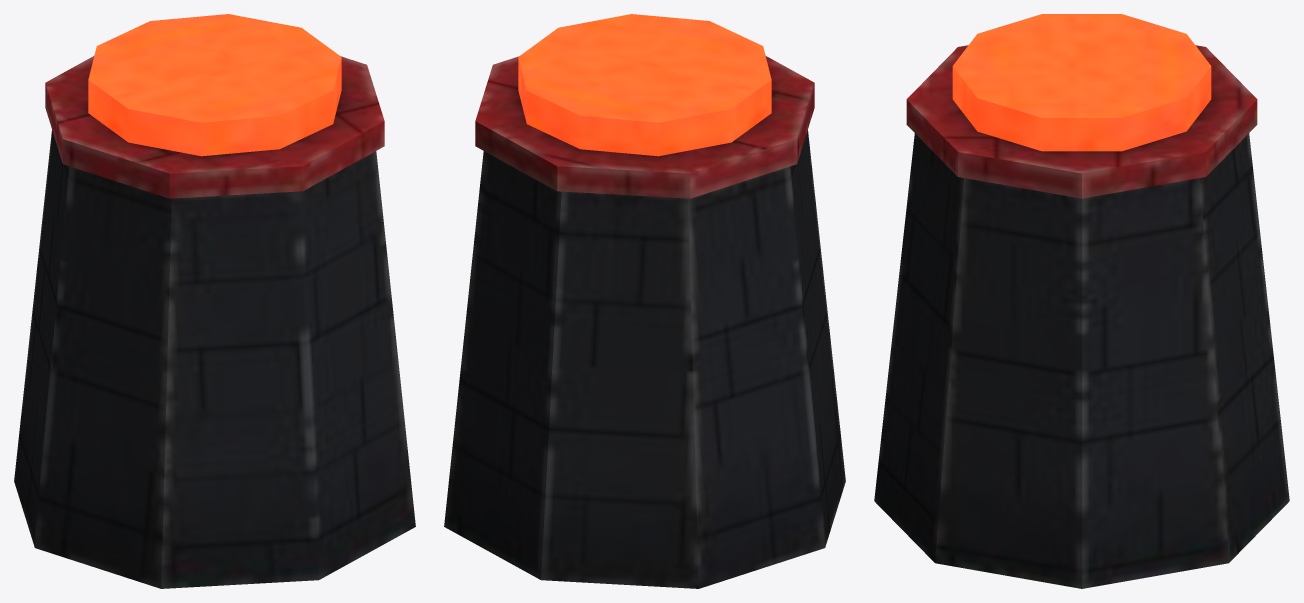
Rendered from btn_e.glb.
3 renders of one model, left to right at view 1: azimuth 30°, elevation 25°; view 2: azimuth 150°, elevation 25°; view 3: azimuth 270°, elevation 25°, orthographic.
Visible parts, largest first — view 1: btn_e; view 2: btn_e; view 3: btn_e.
Boxes of the visible parts, box(x1,y1,x2,y2) form: btn_e: box(14, 14, 415, 588); btn_e: box(444, 14, 845, 588); btn_e: box(874, 14, 1289, 588).
Size of the model in its own units: 0.9 by 1.04 by 0.9.
1 material, 1 textured.
